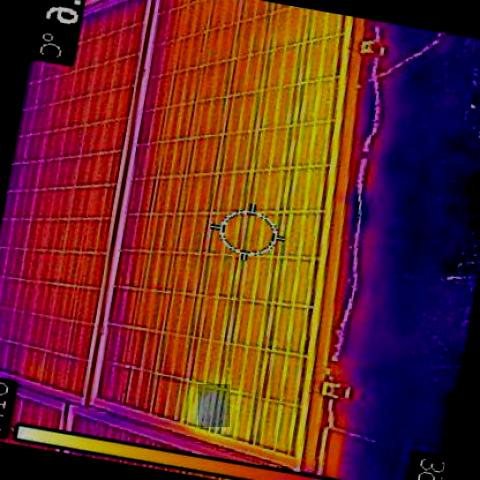fault: (198, 384, 230, 427)
